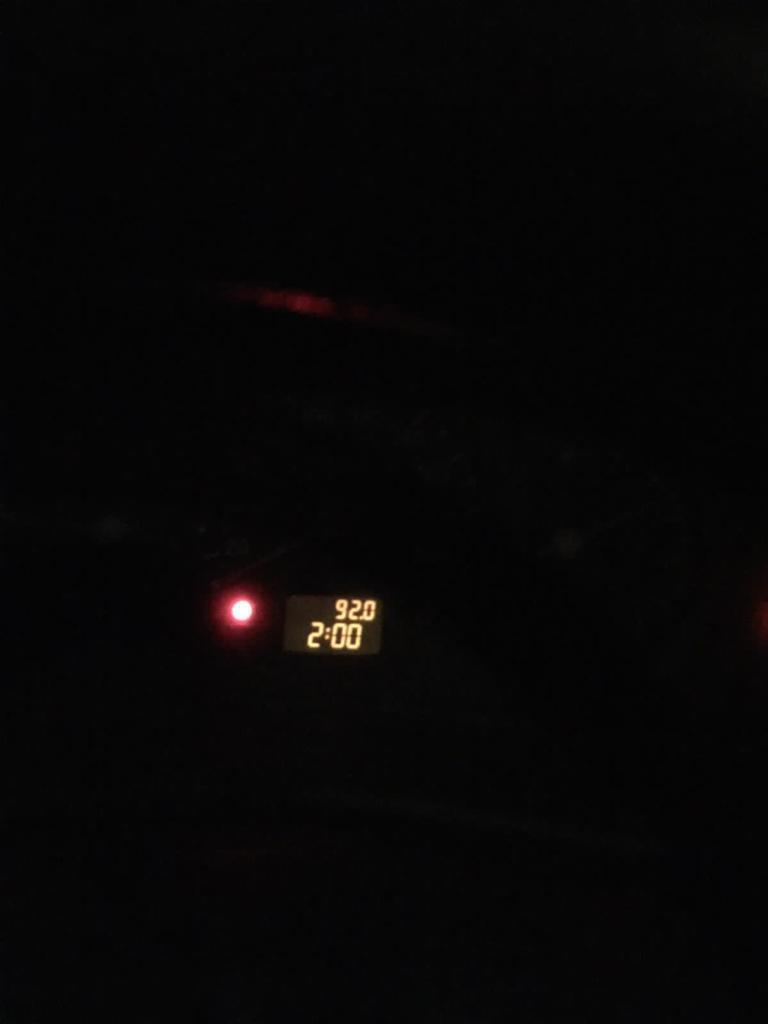,: (359, 615, 363, 621)
0: (331, 621, 346, 650), (347, 622, 362, 650), (363, 598, 376, 620)
2: (306, 618, 324, 651), (349, 597, 361, 621)
9: (334, 596, 348, 620)
X: (325, 625, 330, 642)
odometer: (275, 589, 386, 658)
